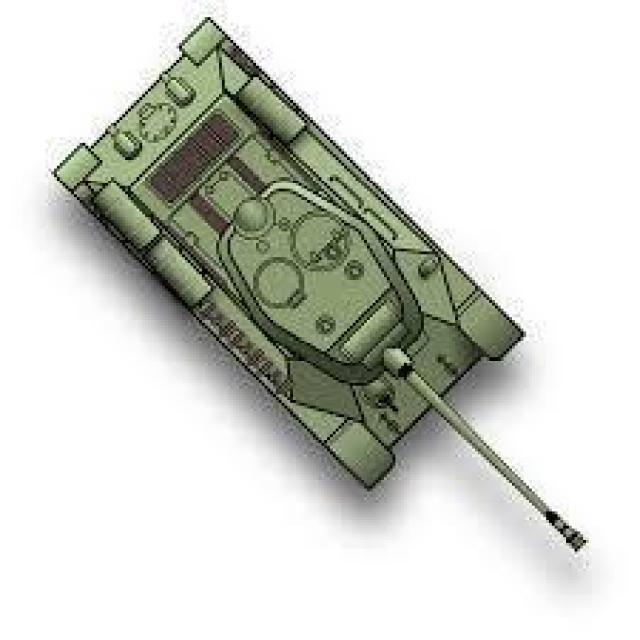MIL_MBT: (44, 16, 587, 579)
